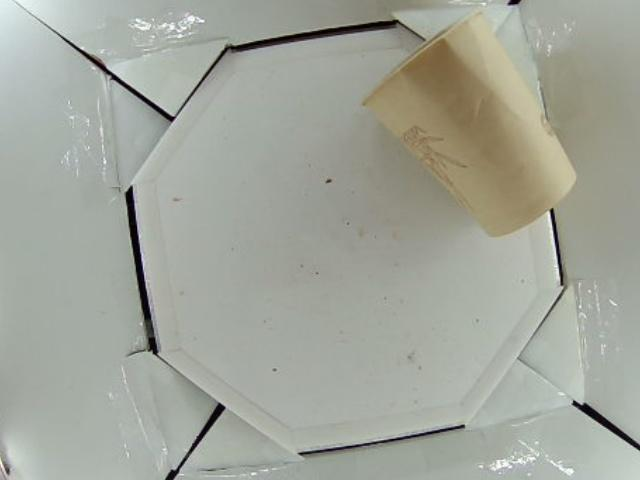Cup: (360, 12, 578, 236)
